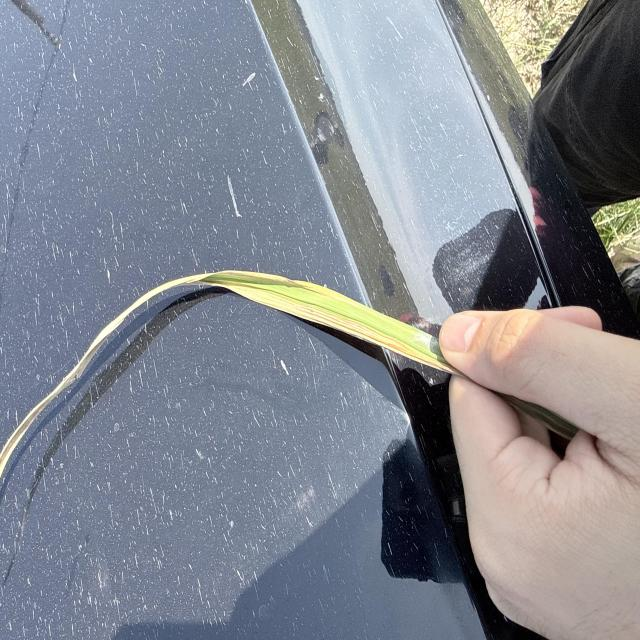Chay bia la: (0, 271, 460, 478)
